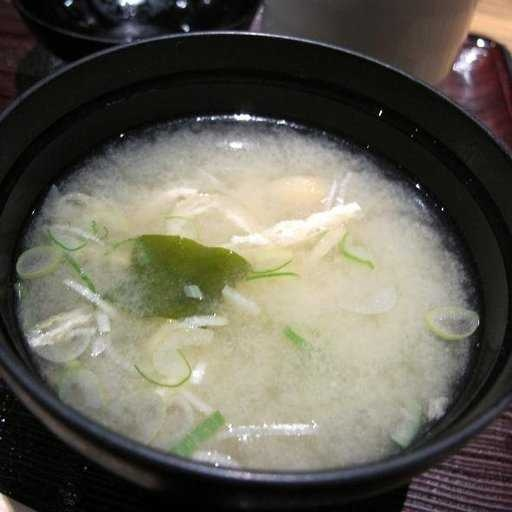soup: (4, 67, 482, 472)
